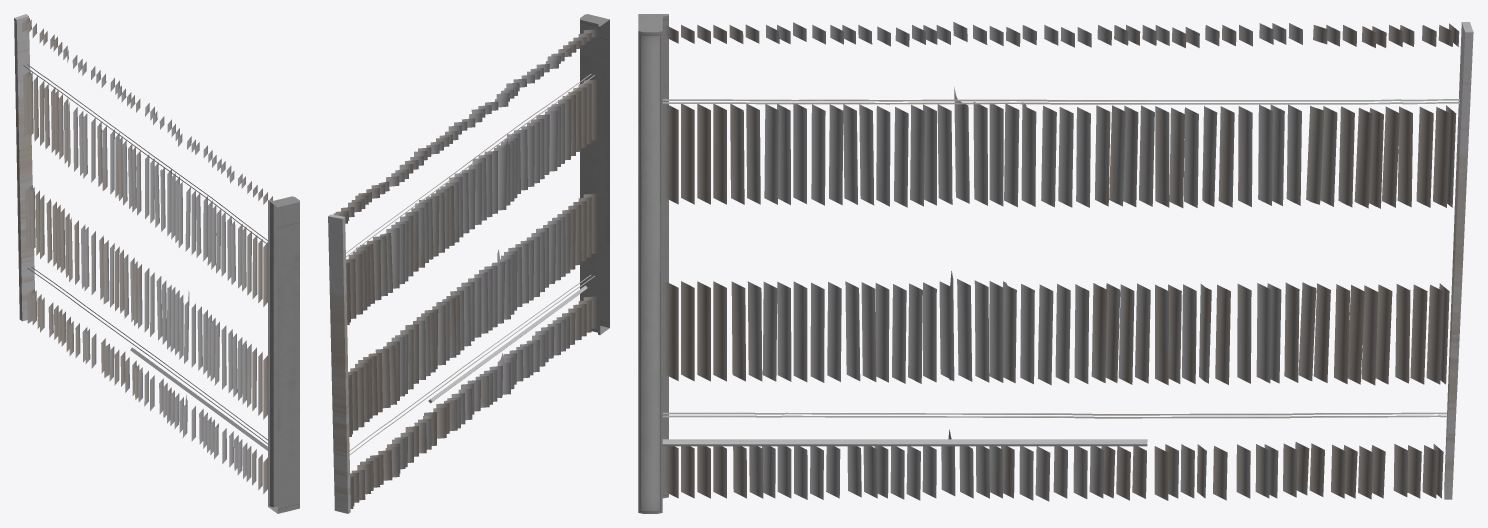
File: venetian_blind_white_64x96_LOD0.obj
3 views of the same model, side by side, from view 1: azimuth 30°, elevation 25°; view 2: azimuth 150°, elevation 25°; view 3: azimuth 270°, elevation 25° (orthographic). The views are drawn at different scales.
Parts seen in each view (by area): view 1: mtl_plastic_windowshade_white, mtl_plastic_windowshade_white_top1, mtl_windowshade_string; view 2: mtl_plastic_windowshade_white, mtl_plastic_windowshade_white_top1, mtl_windowshade_string; view 3: mtl_plastic_windowshade_white, mtl_plastic_windowshade_white_top1, mtl_windowshade_string.
Boxes of the visible parts, box(x1,y1,x2,y2) form: mtl_plastic_windowshade_white: box(14, 14, 272, 493); mtl_plastic_windowshade_white_top1: box(130, 196, 299, 513); mtl_windowshade_string: box(23, 64, 267, 444); mtl_plastic_windowshade_white: box(328, 29, 596, 513); mtl_plastic_windowshade_white_top1: box(428, 14, 609, 403); mtl_windowshade_string: box(346, 74, 594, 455); mtl_plastic_windowshade_white: box(665, 22, 1473, 501); mtl_plastic_windowshade_white_top1: box(638, 14, 1147, 513); mtl_windowshade_string: box(662, 99, 1459, 418).
Size of the model in its own units: 13.56 by 168 by 263.
